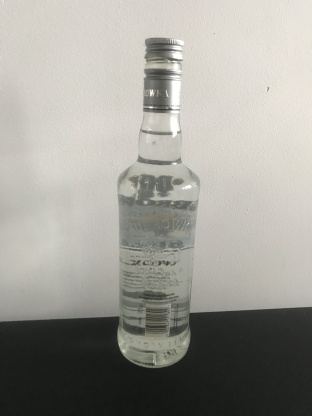nakretka: (141, 32, 185, 112)
